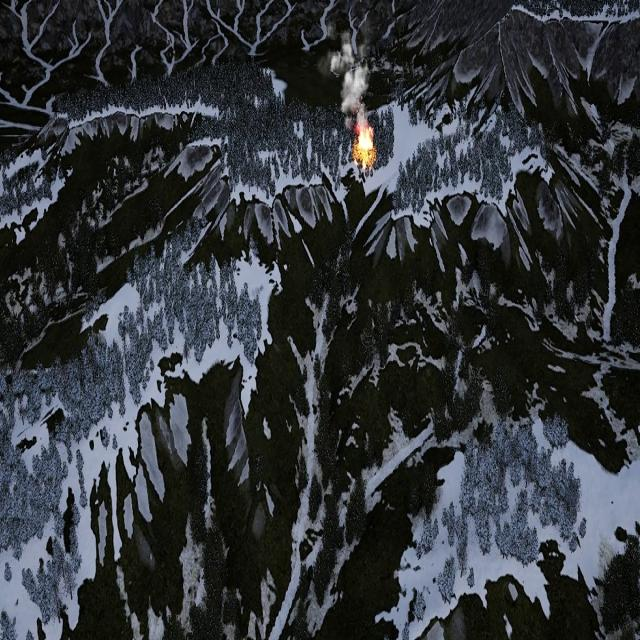fire: (354, 126, 374, 164)
smoke: (320, 28, 374, 124)
